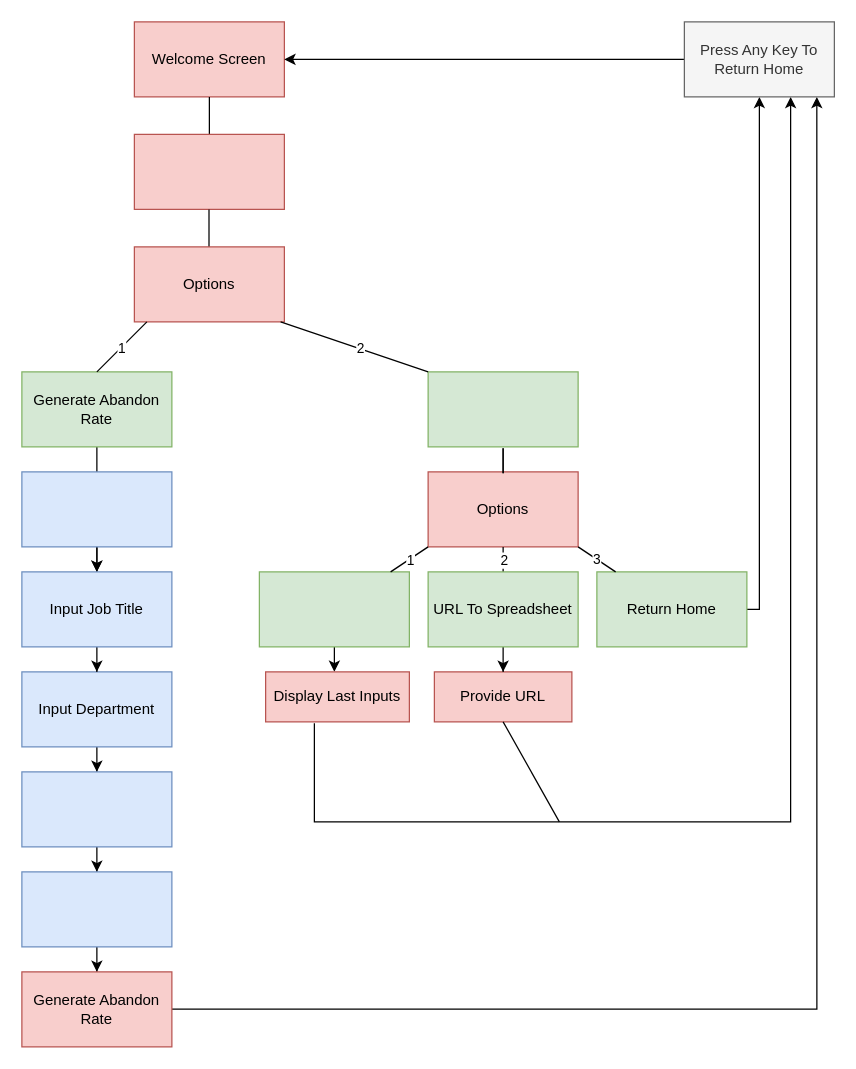
Some shapes in this 856 by 1069 pixel diagram are drawn without their labels. The centre of each missing label's shape, as x and y in pixels:
Description Screen: point 208,171
Input Dropped calls: point 96,909
Input Inbound calls: point 96,809
Input Rep Name: point 96,509
View Most Recent: point 333,609
View Previous Abandon Rates: point 502,409
